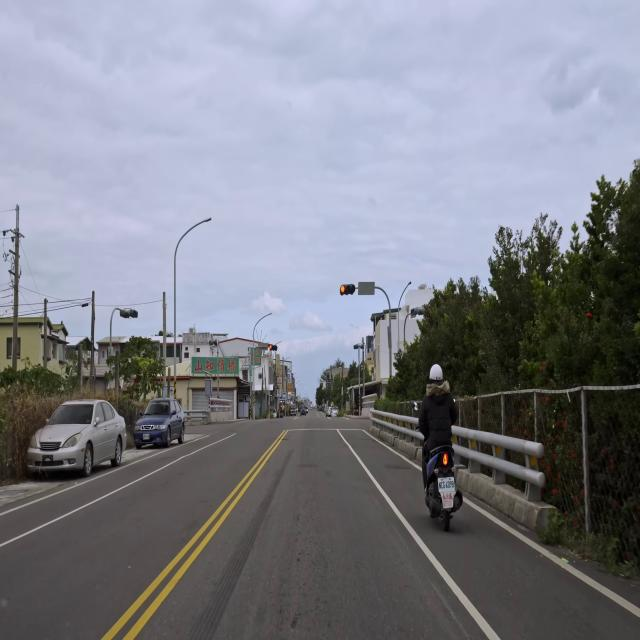red light: (340, 284, 355, 295), (268, 344, 278, 351)
